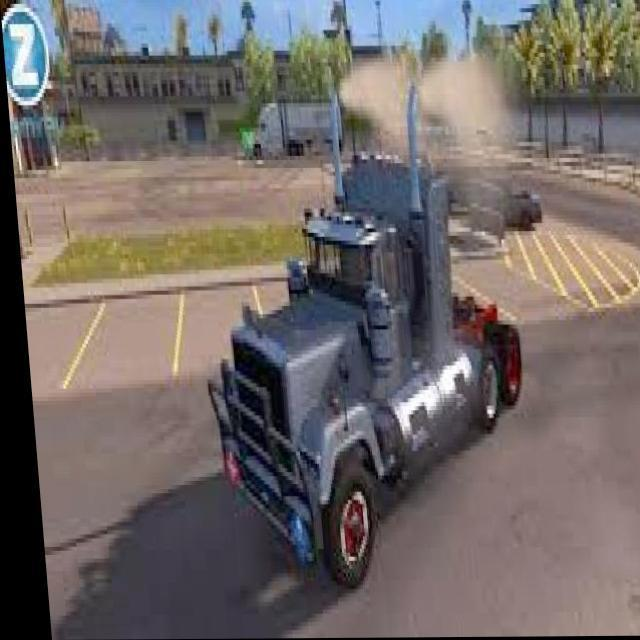Smoke: (326, 58, 528, 245)
